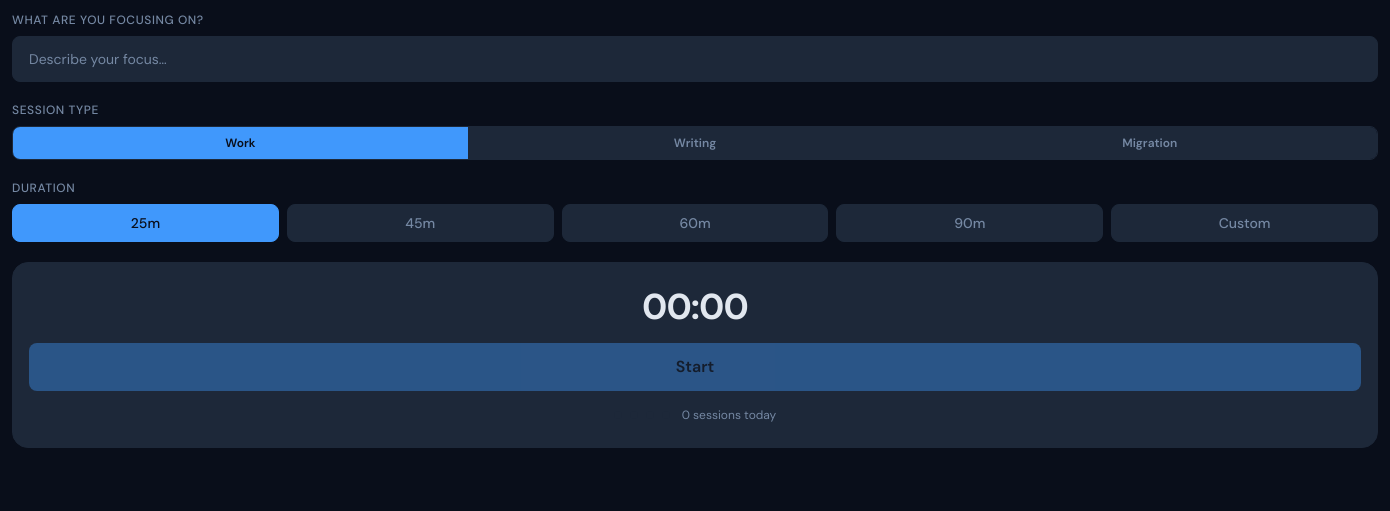
Scenario: SessionPanel — custom duration › shows number input after clicking Custom
What coordinates should you click on to do the following:
click the button "Custom"
I would click on:
 (1245, 223)
Its box is [1111,204,1378,242].
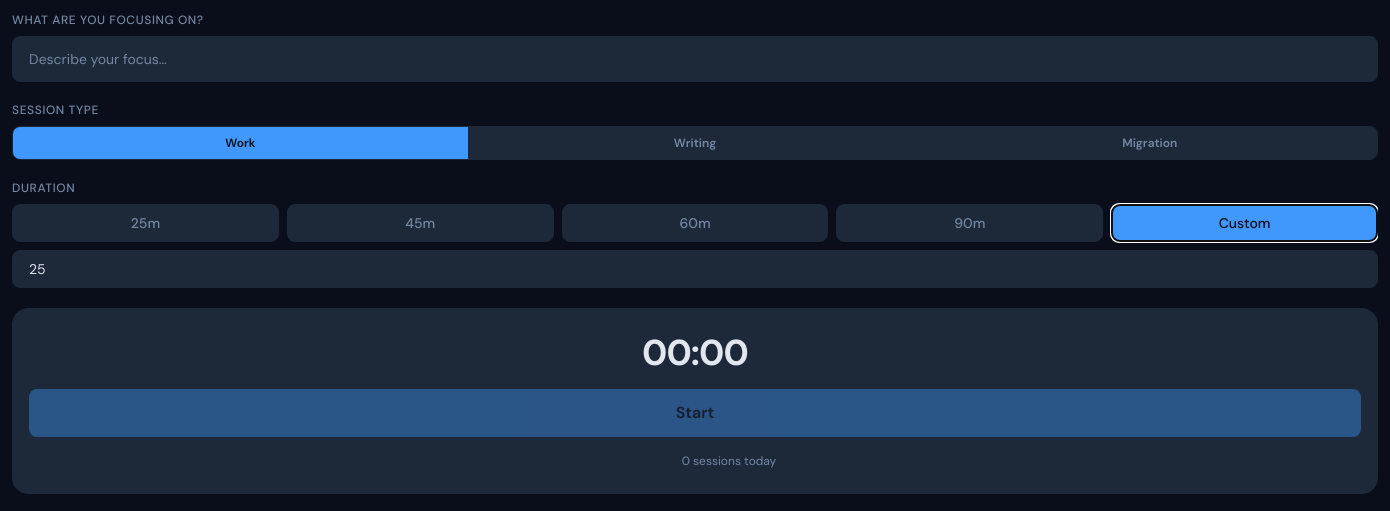
Expected: the number field with placeholder "Minutes (25–120)" is shown, [12,250,1378,288]
